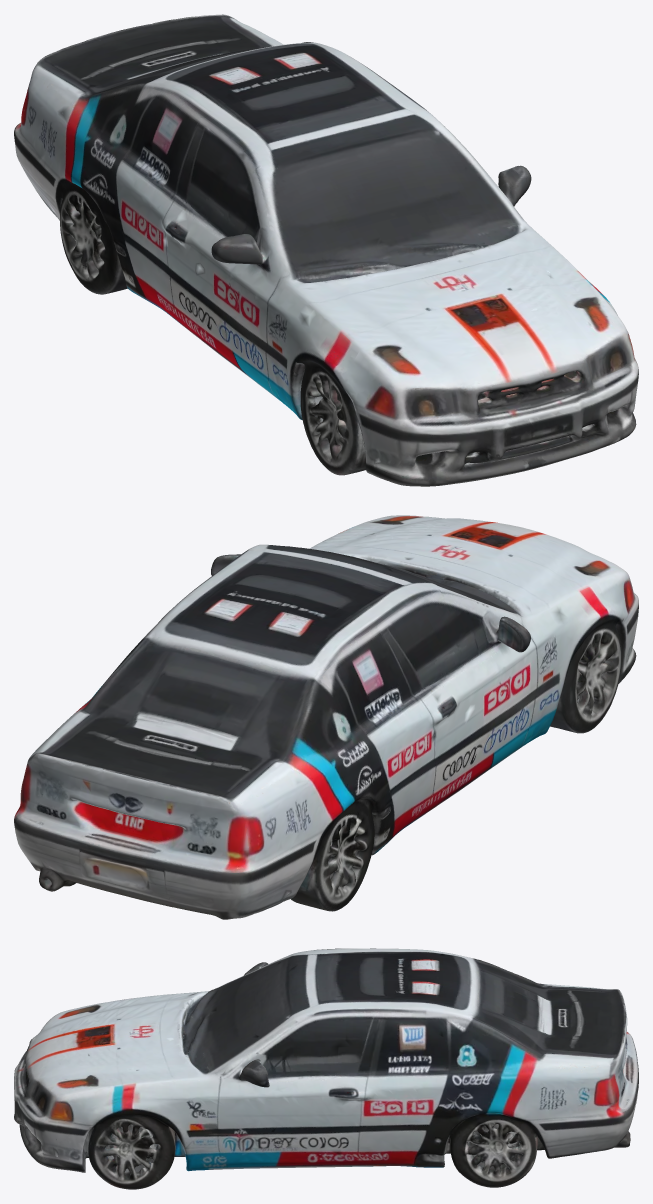
File: rally-car.glb
3 renders of one model, top to bottom at view 1: azimuth 30°, elevation 25°; view 2: azimuth 150°, elevation 25°; view 3: azimuth 270°, elevation 25°, orthographic. The views are drawn at different scales.
Size of the model in its own units: 0.8674 by 0.5954 by 2.
1 material, 1 textured.
